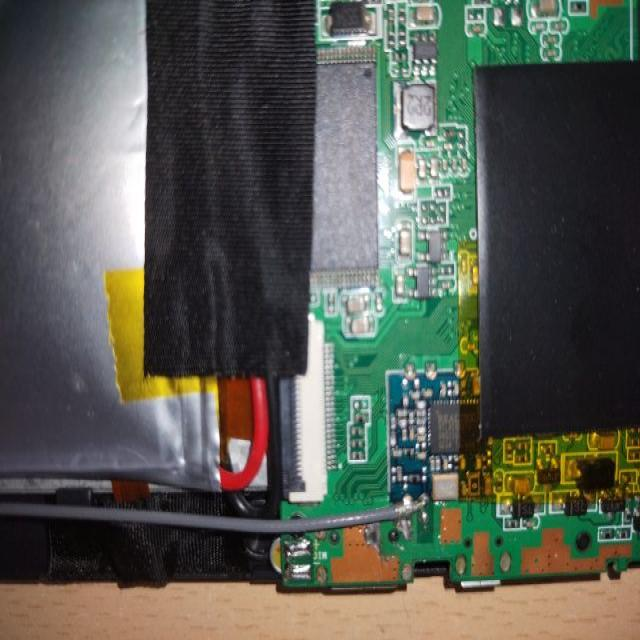capacitor: (389, 223, 417, 260), (508, 471, 535, 500), (341, 294, 374, 314), (391, 273, 409, 308), (342, 317, 375, 336), (599, 432, 623, 455), (413, 6, 439, 26), (426, 153, 442, 179), (535, 0, 561, 12), (466, 18, 482, 36), (545, 48, 558, 64), (557, 20, 567, 34), (419, 160, 426, 180), (438, 280, 452, 290), (461, 157, 467, 174), (546, 34, 558, 42), (442, 157, 448, 172), (449, 162, 455, 174)
resistor: (407, 471, 423, 488), (601, 527, 617, 544), (619, 524, 632, 544), (352, 454, 364, 466), (356, 416, 372, 423)
